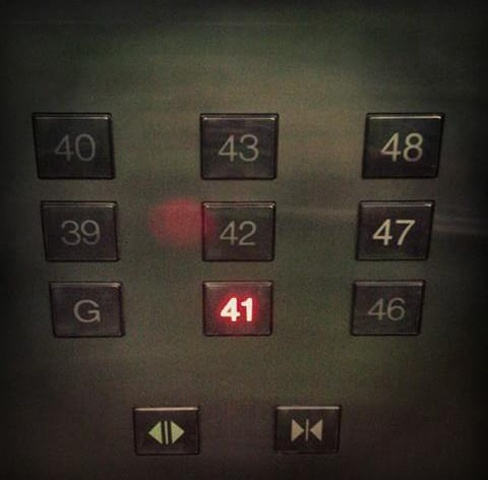39: (38, 197, 121, 262)
40: (29, 110, 117, 181)
41: (200, 278, 275, 338)
42: (199, 198, 277, 262)
43: (197, 110, 282, 181)
46: (348, 277, 428, 338)
47: (353, 198, 437, 261)
48: (360, 110, 447, 180)
G: (46, 279, 128, 339)
close: (271, 402, 343, 455)
open: (130, 403, 203, 456)
